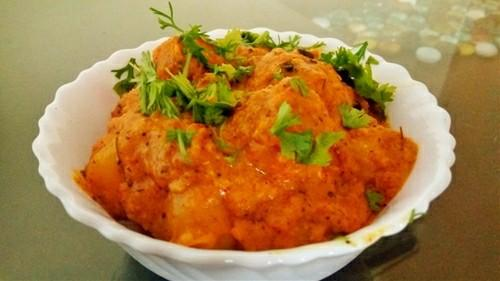DumAloo: (76, 0, 422, 252)
